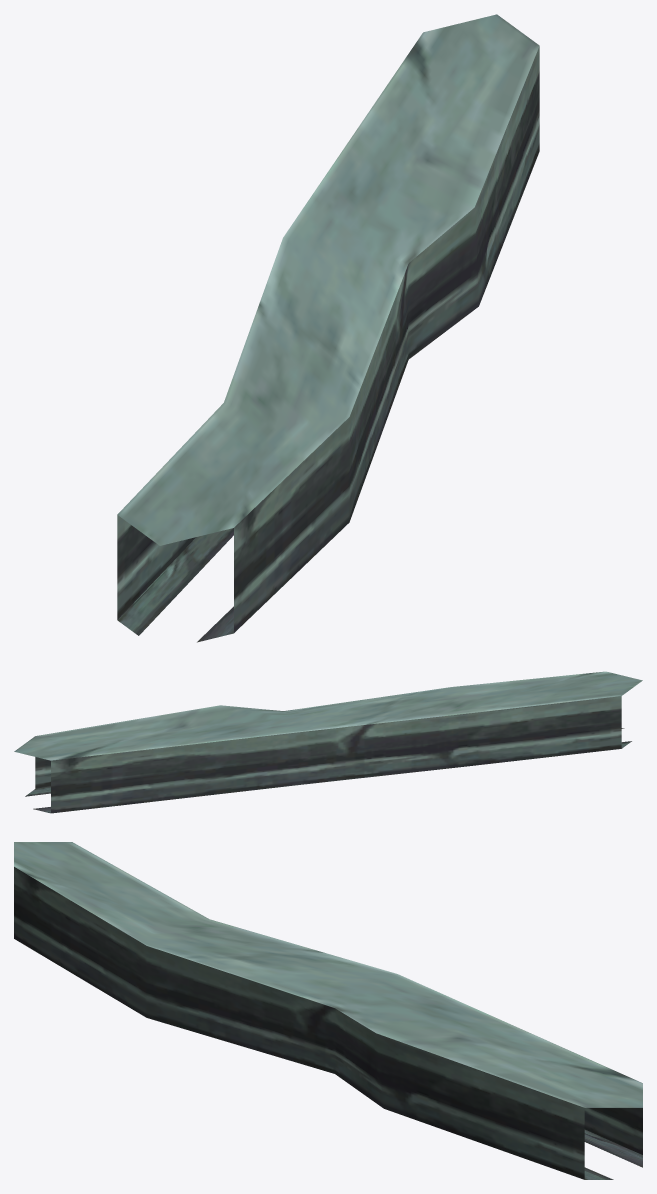
File: crypt_cap_diagnol_01.fbx
3 renders of one model, top to bottom at view 1: azimuth 30°, elevation 25°; view 2: azimuth 150°, elevation 25°; view 3: azimuth 270°, elevation 25°, orthographic. The views are drawn at different scales.
Parts seen in each view (by area): view 1: crypt_cap_diagnol_01-0; view 2: crypt_cap_diagnol_01-0; view 3: crypt_cap_diagnol_01-0.
Part boxes in pixels (x1,y1,x2,y2): crypt_cap_diagnol_01-0: [117, 14, 539, 642]; crypt_cap_diagnol_01-0: [14, 671, 642, 813]; crypt_cap_diagnol_01-0: [14, 842, 642, 1179].
Size of the model in its own units: 4 by 0.5817 by 4.
